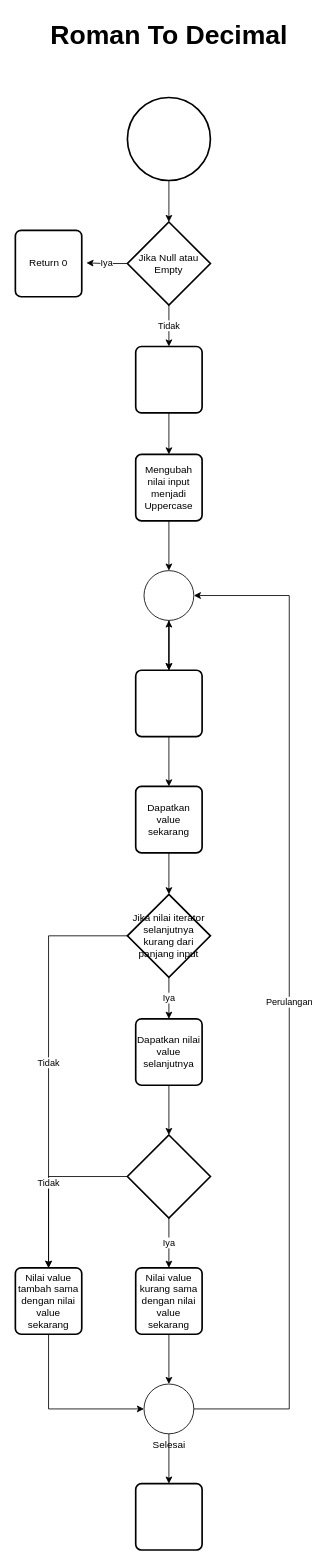
Image size: 326x1565. Some labels were removed from this diagram. Here are the shapes that lost their labels. From the top down, the box of each, then its label:
(126, 96, 211, 181): Input Roman Numerals [string]
(134, 345, 203, 413): Inisiasi value, value sekarang dan value selanjutnya
(134, 669, 203, 737): Perulangan dengan panjang Input
(126, 1134, 211, 1218): Jika nila value sekarang kuran dari nilai value selanjutnya
(134, 1482, 203, 1550): Return nilai value
